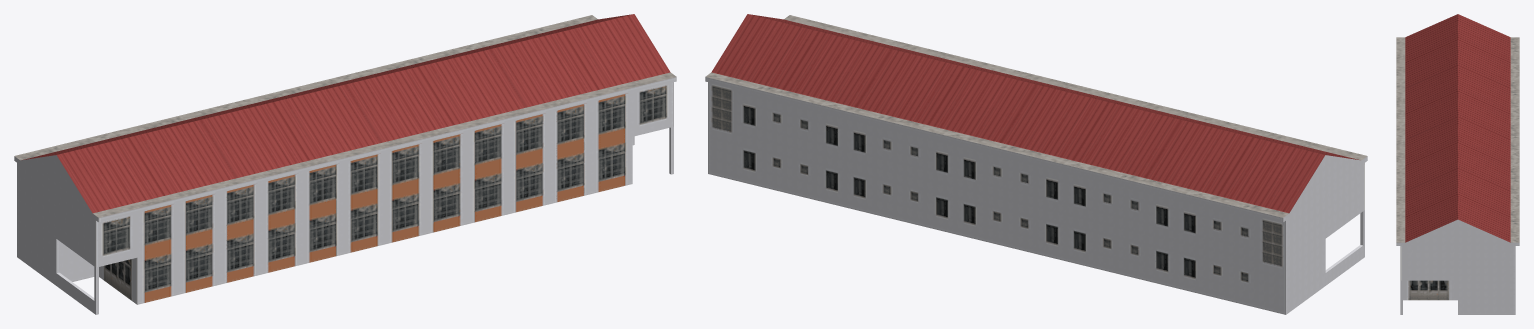
3 renders of one model, left to right at view 1: azimuth 30°, elevation 25°; view 2: azimuth 150°, elevation 25°; view 3: azimuth 270°, elevation 25°, orthographic. The views are drawn at different scales.
Visible parts, largest first — view 1: BPH003_BenviendakhoatinhBinhPhuoc_nha_27; view 2: BPH003_BenviendakhoatinhBinhPhuoc_nha_27; view 3: BPH003_BenviendakhoatinhBinhPhuoc_nha_27.
Boxes of the visible parts, <box> form: BPH003_BenviendakhoatinhBinhPhuoc_nha_27: <box>14,14,676,314</box>; BPH003_BenviendakhoatinhBinhPhuoc_nha_27: <box>705,14,1367,314</box>; BPH003_BenviendakhoatinhBinhPhuoc_nha_27: <box>1396,14,1519,314</box>.
Size of the model in its own units: 57.63 by 12.48 by 14.6.
1 material, 1 textured.
